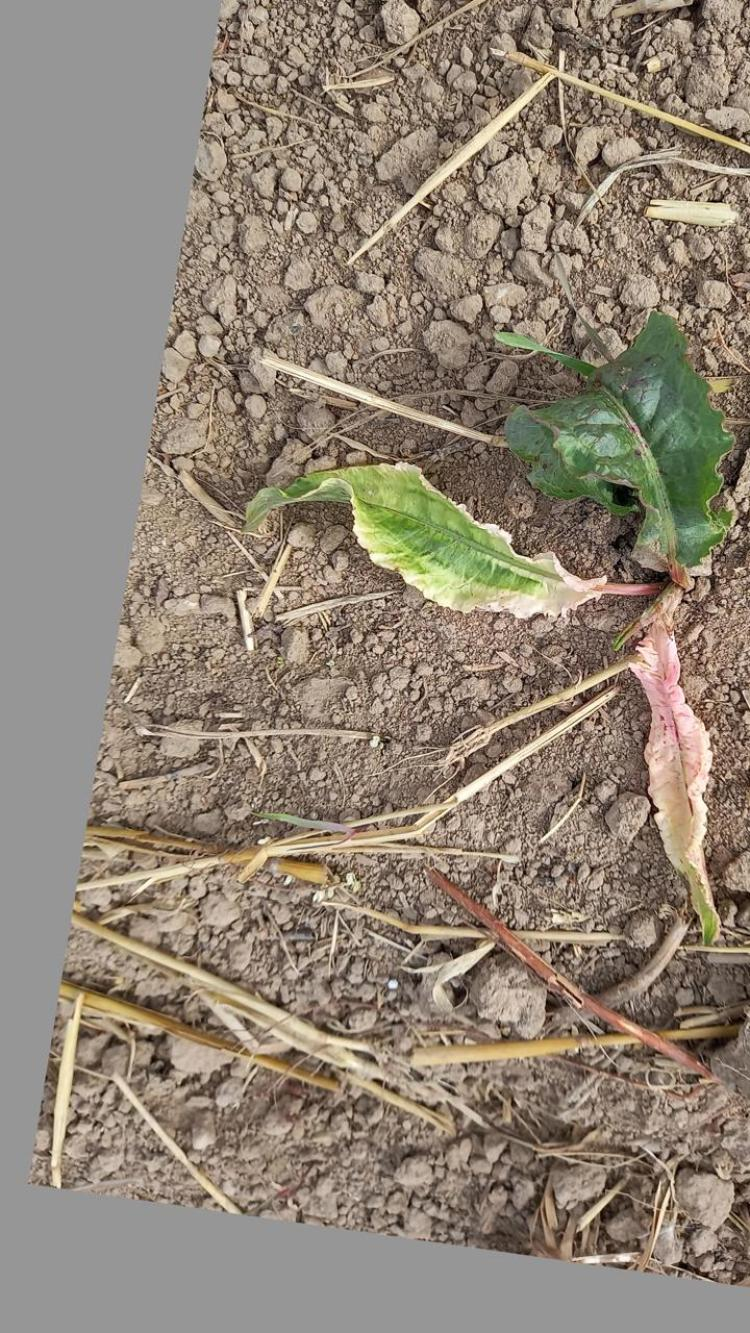zhavel: (244, 306, 729, 948)
